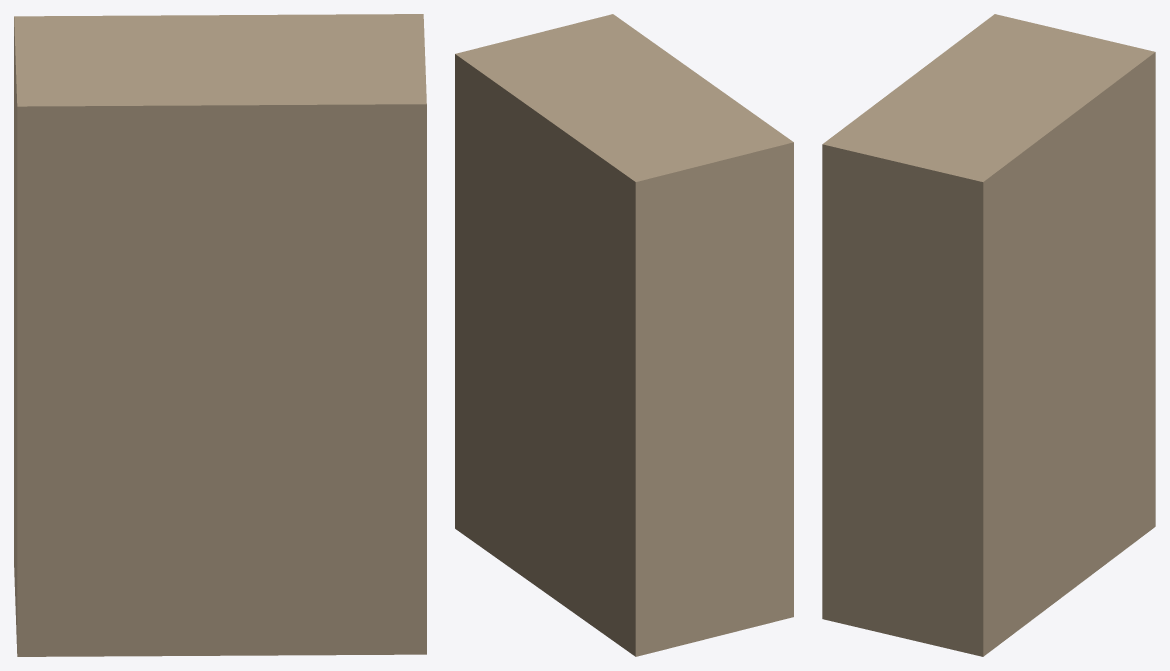
File: bld_101374761.dae
The picture shows the model from 3 angles, left to right: view 1: azimuth 30°, elevation 25°; view 2: azimuth 150°, elevation 25°; view 3: azimuth 270°, elevation 25°; orthographic projection. The views are drawn at different scales.
Visible parts, largest first — view 1: bld_101374761; view 2: bld_101374761; view 3: bld_101374761.
Boxes of the visible parts, left/top/right/bottom form: bld_101374761: left=14, top=14, right=426, bottom=656; bld_101374761: left=455, top=14, right=793, bottom=656; bld_101374761: left=822, top=14, right=1155, bottom=656.
Bounding box in the file's own units: 6.08 × 5.09 × 8.
